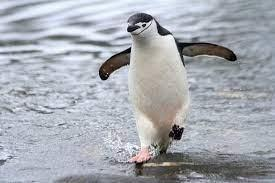chinstrap: (94, 8, 206, 164)
